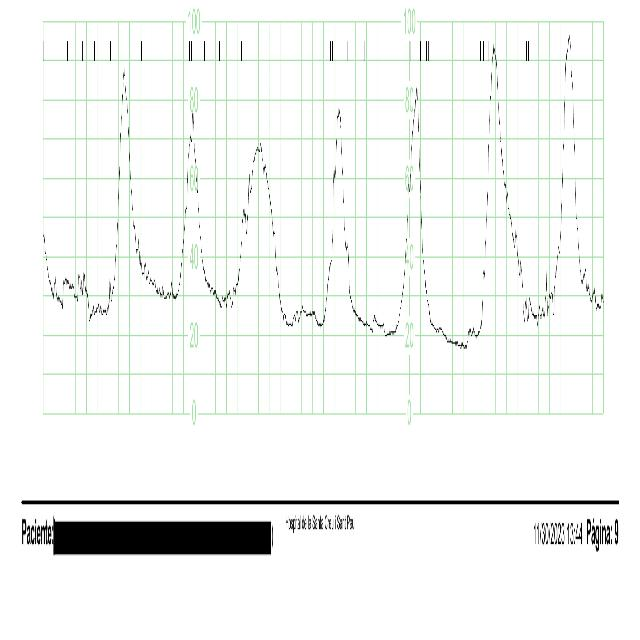contraction: (479, 44, 513, 332), (550, 31, 584, 313), (314, 100, 352, 323), (396, 83, 430, 330), (236, 139, 280, 299), (108, 64, 135, 301), (177, 104, 204, 303)
